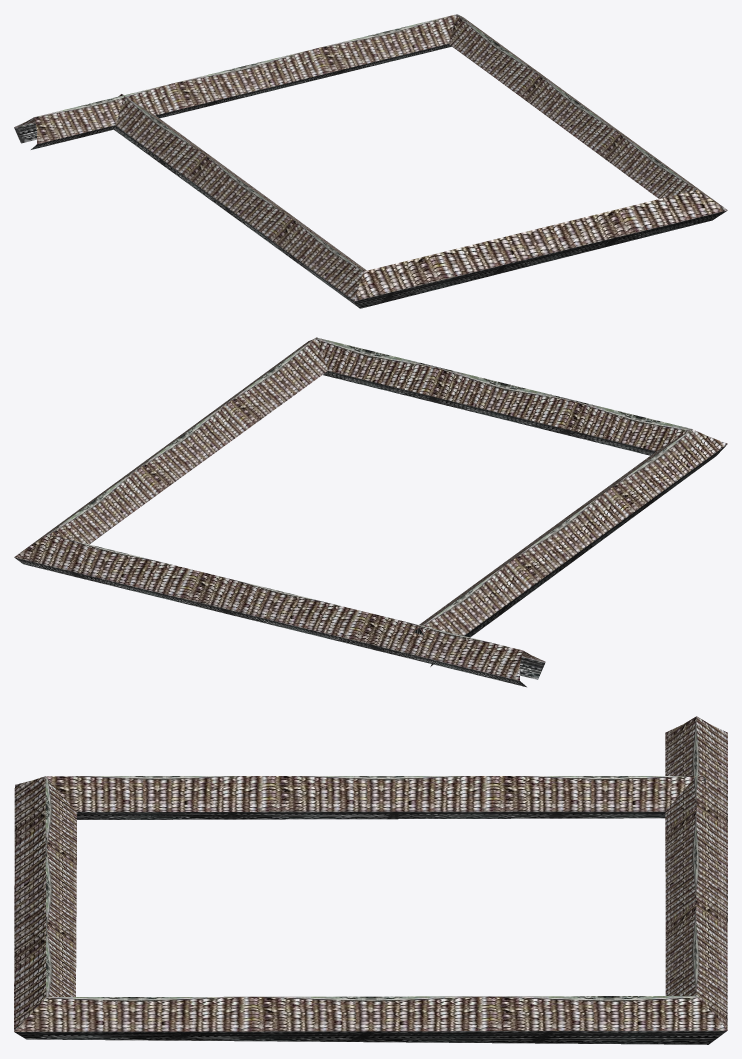
3 renders of one model, top to bottom at view 1: azimuth 30°, elevation 25°; view 2: azimuth 150°, elevation 25°; view 3: azimuth 270°, elevation 25°, orthographic. The views are drawn at different scales.
Parts seen in each view (by area): view 1: Box314; view 2: Box314; view 3: Box314.
Part boxes in pixels (x1,y1,x2,y2): Box314: [14, 14, 727, 308]; Box314: [14, 337, 727, 687]; Box314: [14, 716, 727, 1044].
Size of the model in its own units: 566 by 33.93 by 572.
